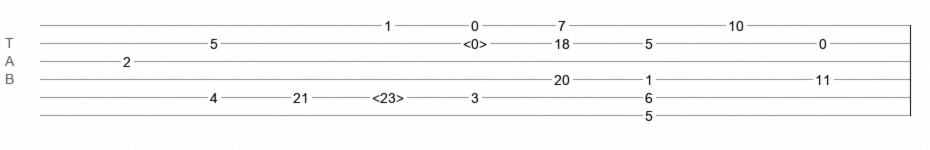0: (471, 18, 479, 28), (819, 36, 827, 46)
1: (384, 18, 392, 28), (645, 72, 653, 82)
10: (728, 18, 744, 28)
11: (815, 72, 831, 82)
18: (554, 36, 570, 46)
2: (123, 54, 131, 64)
20: (554, 72, 570, 82)
21: (293, 90, 309, 100)
3: (471, 90, 479, 100)
4: (210, 90, 218, 100)
5: (210, 36, 218, 46), (645, 36, 653, 46), (645, 108, 653, 118)
6: (645, 90, 653, 100)
7: (558, 18, 566, 28)
harmonic: (372, 90, 404, 100), (463, 36, 487, 46)
